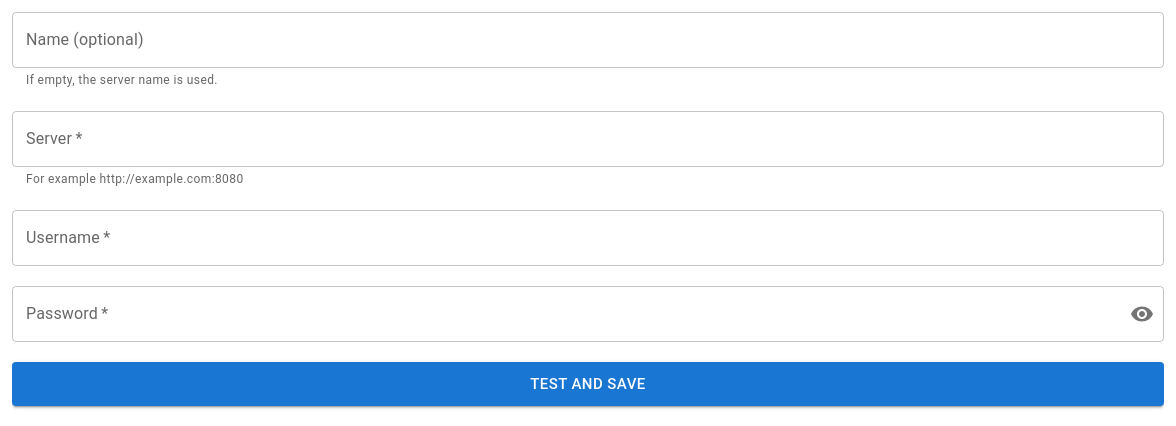
it: SRC-03 AC2 + UX-01 AC3 — test and save › uses the typed name and the HTTPS base when the panel offers it
The image size is (1176, 426).
Type "  Living room " into the field labelled "Name (optional)" at (588, 40), box x1=12 y1=12 x2=1164 y2=68
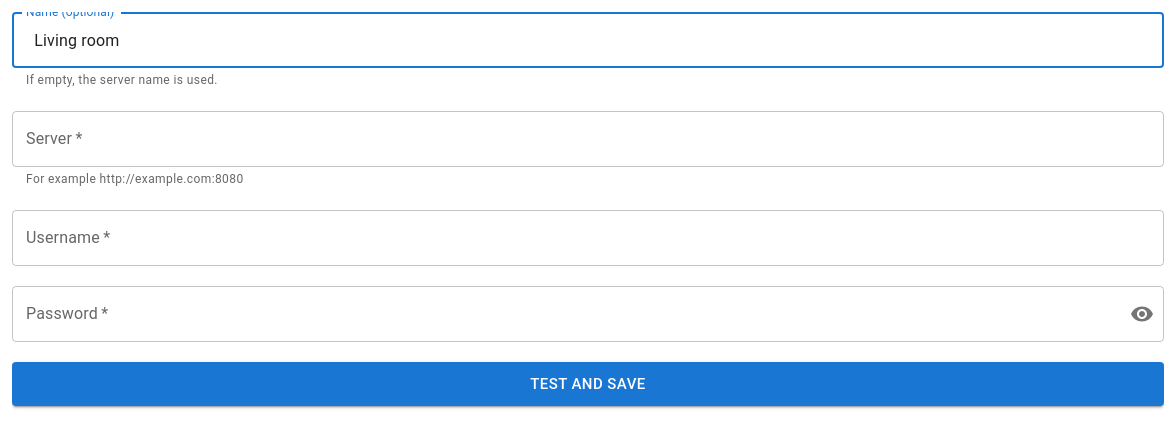
Type "http://panel.example.test:8080" into the field labelled "Server" at (588, 139), box x1=12 y1=111 x2=1164 y2=167
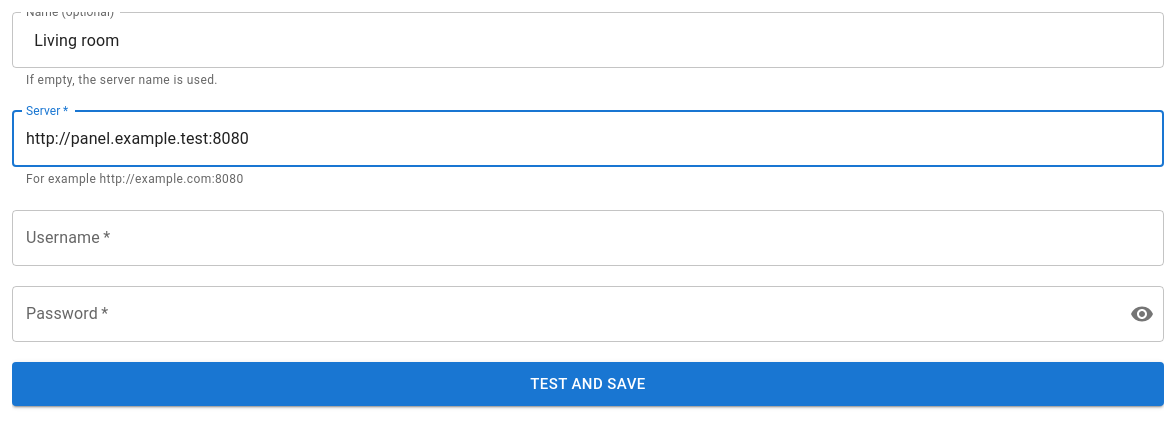
Type "jdoe" into the field labelled "Username" at (588, 238), box x1=12 y1=210 x2=1164 y2=266
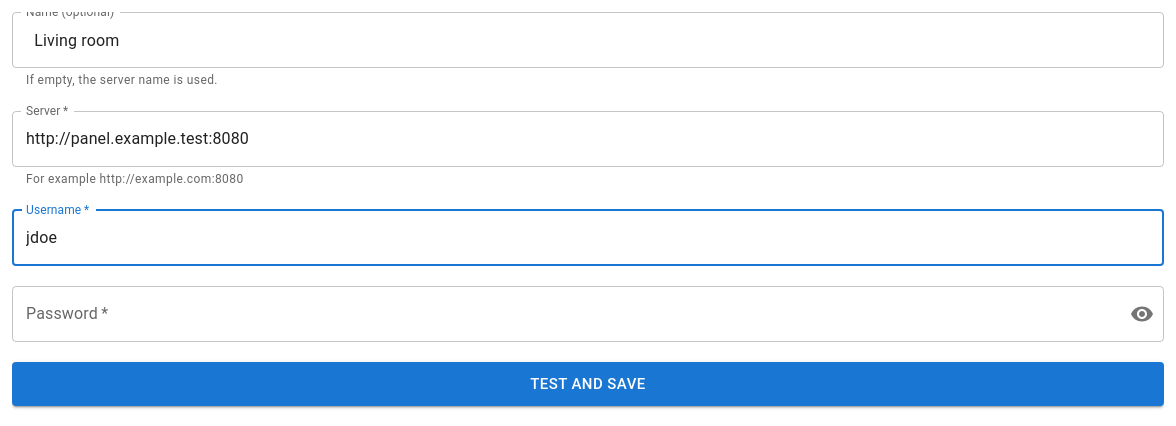
Type "testpass" into the password field labelled "Password" at (563, 314), box x1=12 y1=286 x2=1114 y2=342
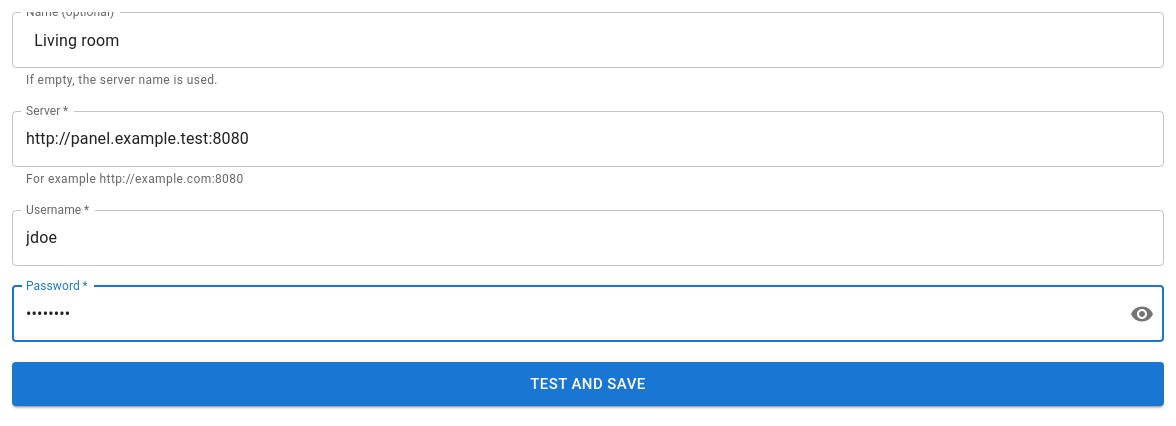
Click the button "Test and save" at (588, 384), box x1=12 y1=362 x2=1164 y2=406
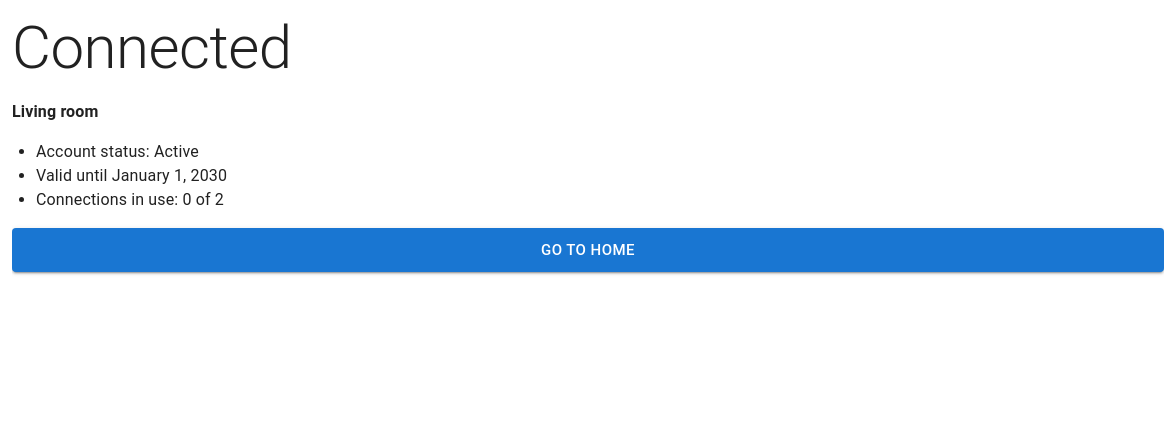
Result: the heading "Connected" is shown at x1=12 y1=12 x2=292 y2=83
Result: the field "HTTP-only server" is gone
